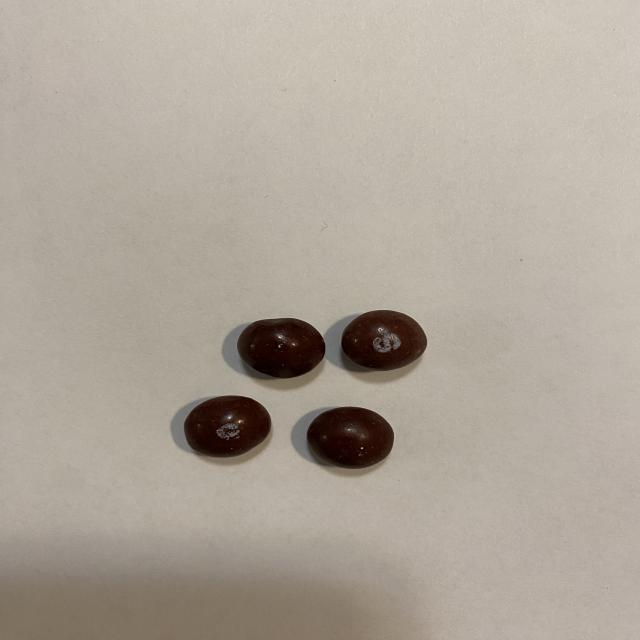smartie: (183, 395, 272, 458), (237, 318, 325, 378), (341, 310, 427, 371), (310, 407, 394, 469)
